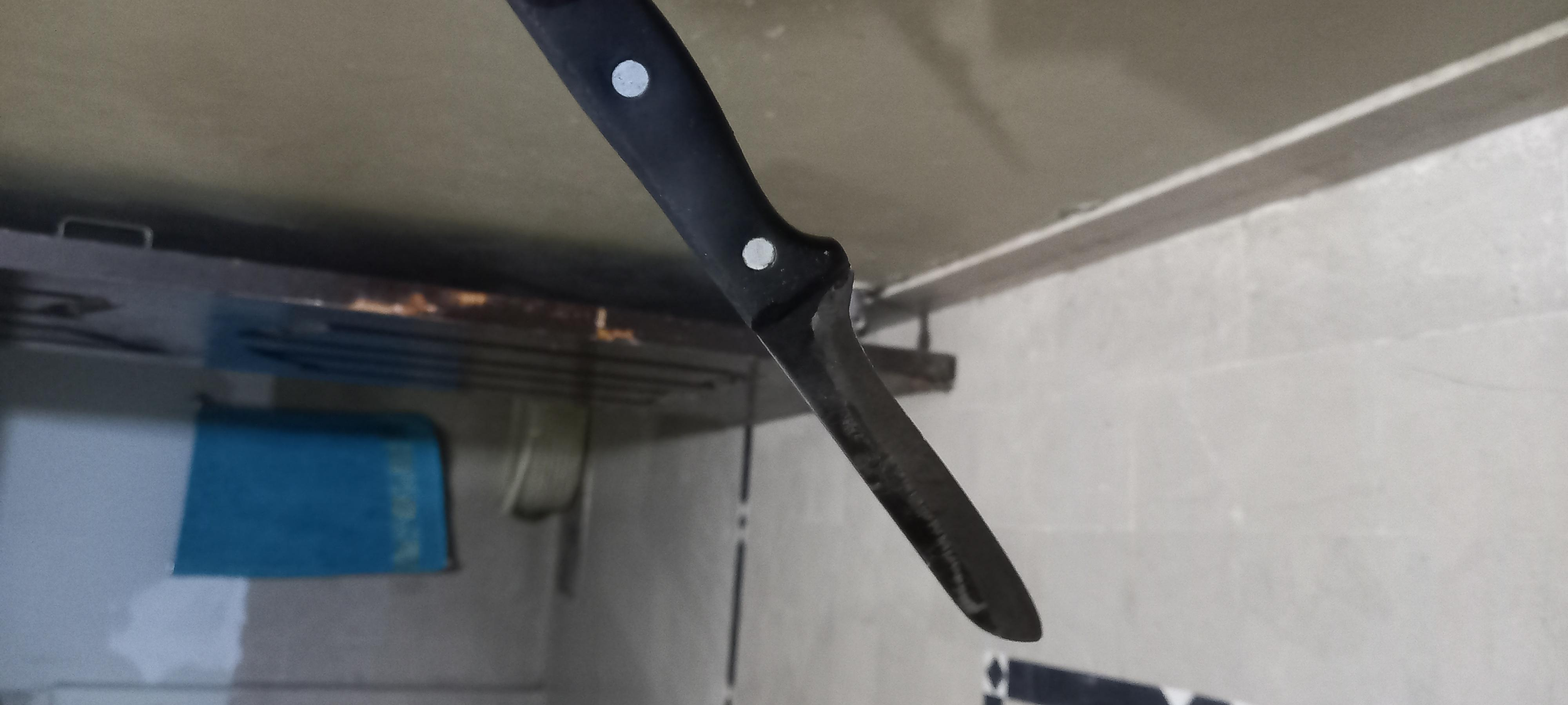knives: (125, 229, 1534, 480)
